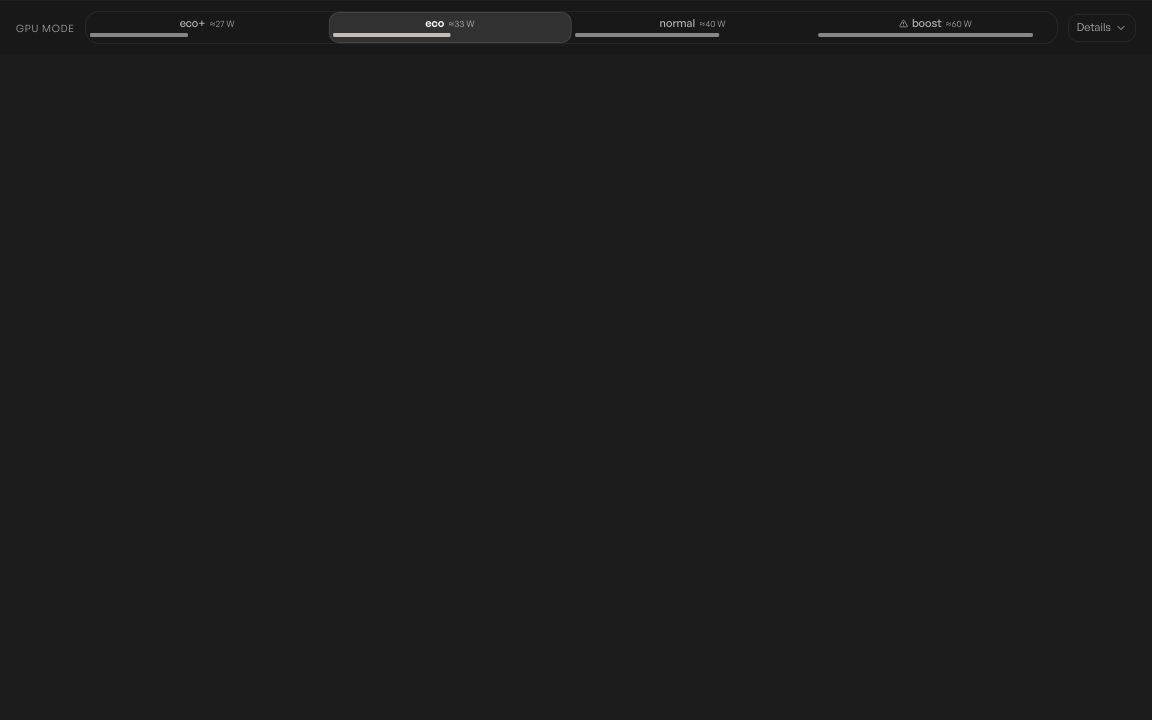
Test: DeviceModeStrip › sends the desired state and shows the hand-over while the box catches up
This screenshot has width=1152, height=720.
Click the radio button with test id "compact-mode-eco+" at (207, 28), box x1=86 y1=12 x2=329 y2=43
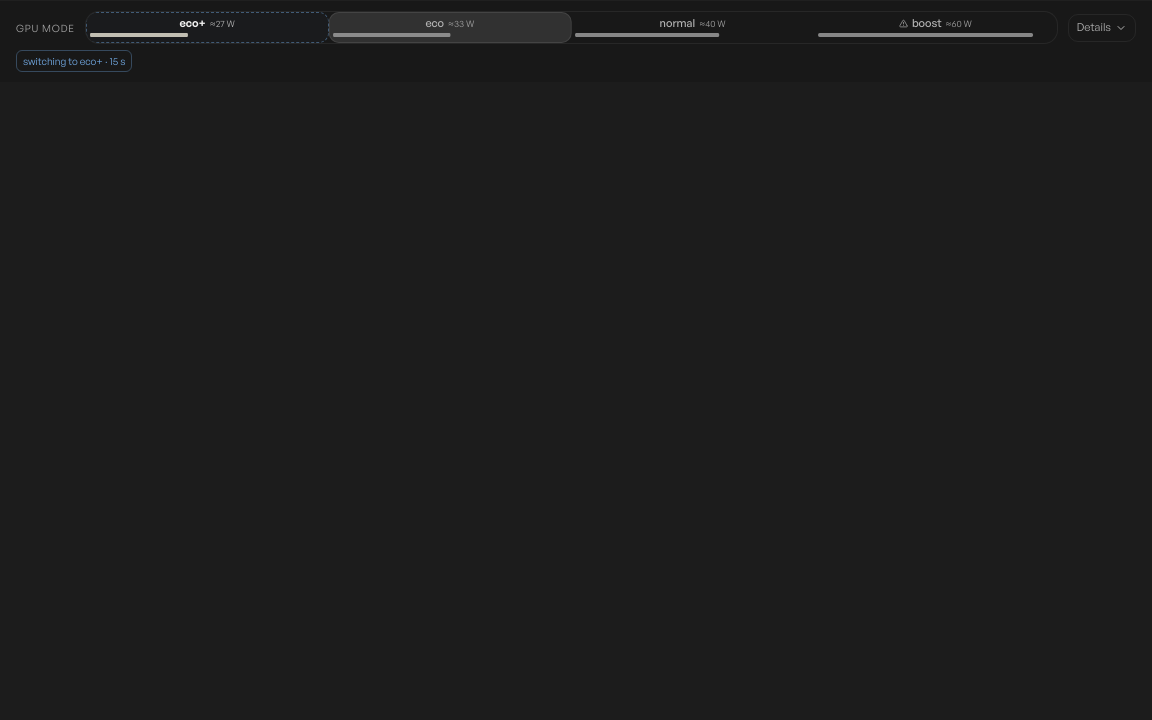
Now the text with test id "device-status-chip" shows "switching to eco+", box x1=23 y1=55 x2=103 y2=67
Click the button with test id "device-toggle-detail" at (1102, 28), box x1=1068 y1=14 x2=1136 y2=42
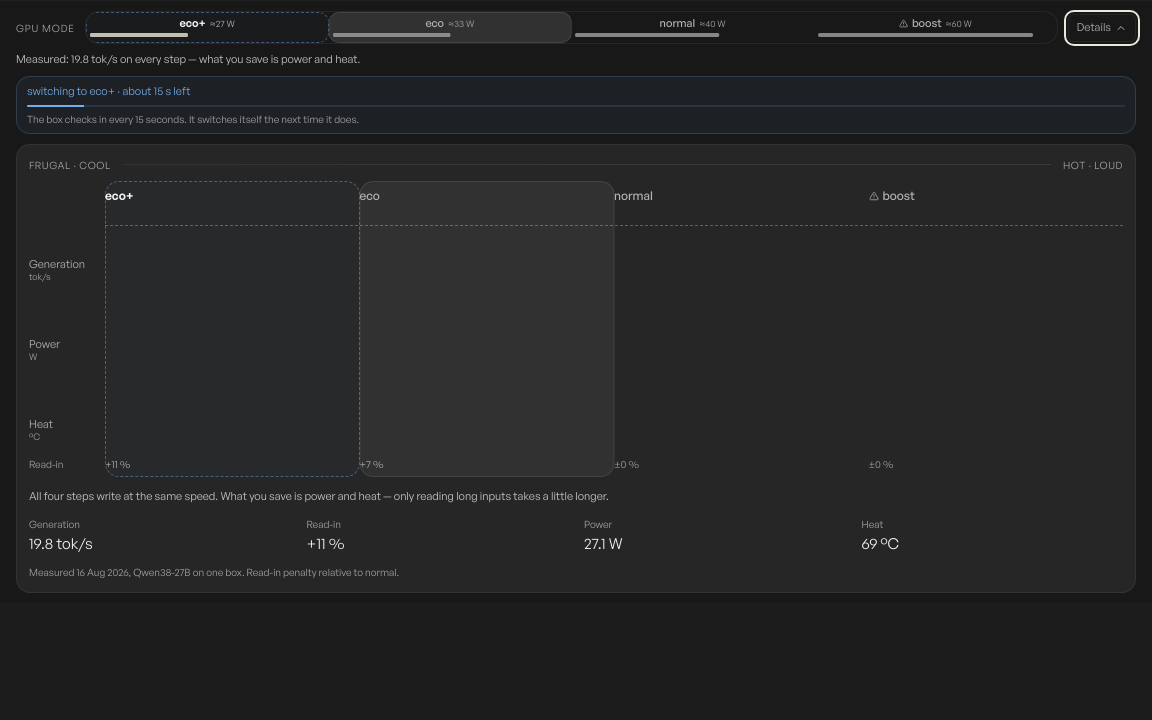
Now the element with test id "device-detail" is shown
Now the text "switching to eco+ · about 15 s left" is shown, box x1=27 y1=83 x2=190 y2=100
Now the text with test id "device-status-chip" is gone
